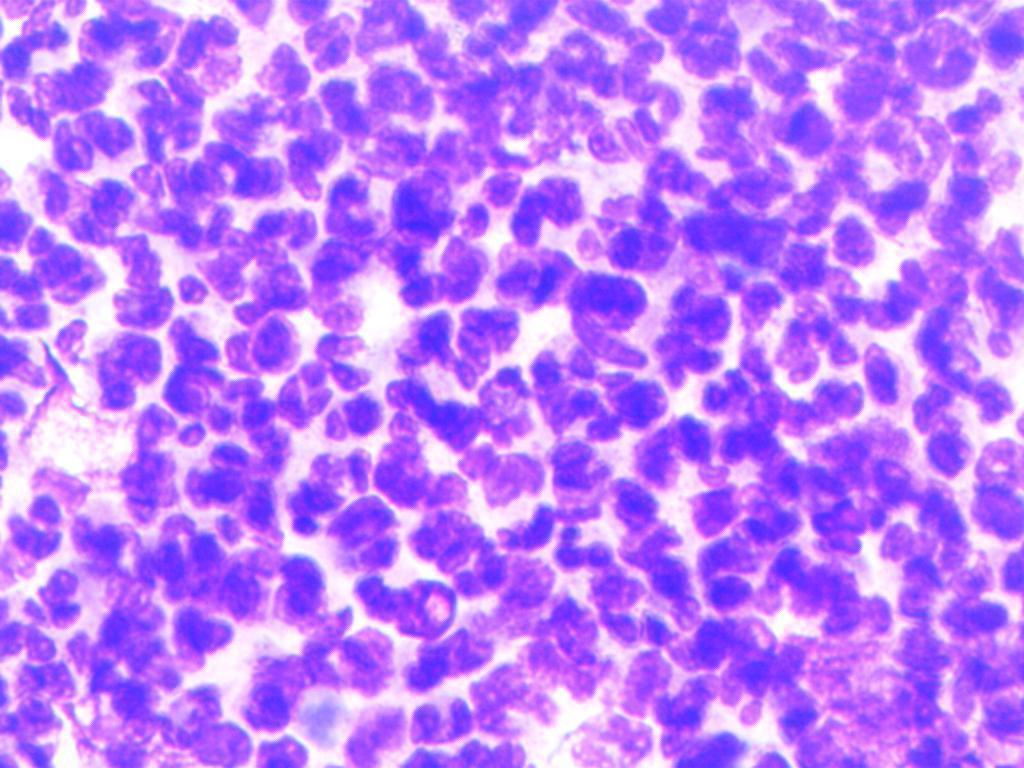neutrophil: (68, 581, 240, 723), (52, 676, 289, 768), (674, 344, 806, 486), (430, 45, 617, 145), (22, 311, 186, 419), (672, 475, 805, 606), (168, 338, 303, 466), (908, 261, 1014, 424), (751, 514, 903, 626), (145, 505, 274, 631), (661, 596, 813, 701), (887, 539, 1024, 654), (188, 194, 314, 315), (334, 546, 473, 655), (233, 633, 404, 721), (568, 158, 692, 279), (363, 393, 483, 518), (408, 489, 520, 621), (540, 416, 668, 531), (673, 173, 799, 285), (585, 66, 702, 185), (662, 668, 801, 768), (573, 560, 713, 658), (123, 142, 250, 250), (480, 494, 631, 581), (817, 23, 935, 131), (60, 483, 164, 601), (283, 435, 390, 549), (793, 416, 916, 513), (22, 148, 143, 246), (270, 535, 372, 649), (357, 713, 567, 768), (790, 245, 920, 333), (206, 83, 296, 209), (582, 176, 686, 284), (105, 400, 192, 529), (179, 436, 289, 538), (765, 283, 864, 396), (645, 279, 743, 393), (824, 129, 926, 238), (680, 73, 778, 183), (120, 54, 218, 160), (948, 628, 1024, 761), (100, 219, 183, 336), (894, 373, 978, 486), (523, 344, 619, 441), (964, 418, 1024, 571), (344, 50, 446, 138), (505, 151, 592, 254), (387, 224, 491, 309), (584, 368, 690, 450), (166, 7, 257, 100), (489, 241, 586, 321), (385, 301, 469, 391), (448, 306, 530, 395), (765, 59, 833, 165), (76, 5, 181, 73), (965, 220, 1024, 341), (944, 119, 1014, 218), (390, 684, 491, 749), (896, 19, 985, 92), (41, 109, 144, 172), (226, 301, 309, 379), (566, 261, 652, 334), (244, 28, 318, 110), (316, 164, 390, 243), (385, 176, 461, 252), (297, 226, 386, 289), (277, 351, 342, 437), (292, 4, 362, 75), (318, 392, 389, 456), (851, 325, 903, 411), (313, 327, 384, 388)
